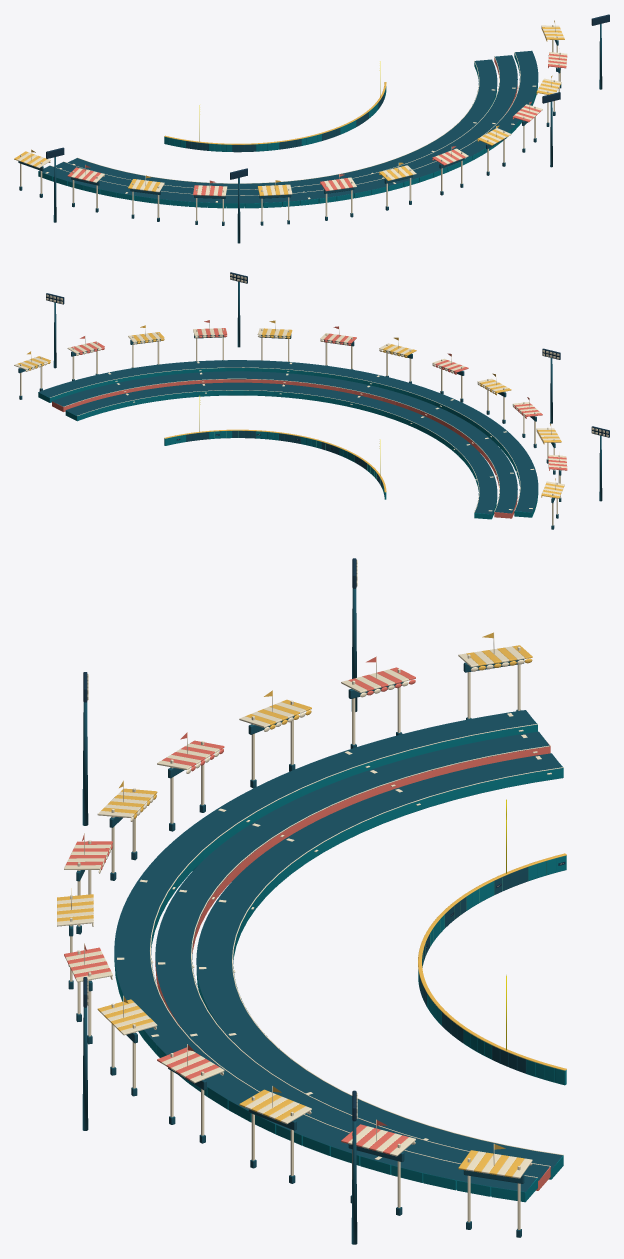
File: stadium.glb
The picture shows the model from 3 angles, top to bottom: view 1: azimuth 30°, elevation 25°; view 2: azimuth 150°, elevation 25°; view 3: azimuth 270°, elevation 25°; orthographic projection. The views are drawn at different scales.
Parts seen in each view (by area): view 1: stadium_teal_dark, stadium_cream, stadium_teal, stadium_gold, stadium_coral, stadium_navy; view 2: stadium_teal_dark, stadium_cream, stadium_teal, stadium_coral, stadium_gold, stadium_navy; view 3: stadium_teal_dark, stadium_cream, stadium_teal, stadium_coral, stadium_gold.
Part boxes in pixels (x1,y1,x2,y2): stadium_teal_dark: [18, 24, 602, 243]; stadium_cream: [17, 21, 567, 222]; stadium_teal: [38, 53, 538, 208]; stadium_gold: [14, 20, 564, 195]; stadium_coral: [67, 53, 567, 196]; stadium_navy: [46, 14, 609, 179]; stadium_teal_dark: [18, 281, 602, 529]; stadium_cream: [14, 273, 608, 525]; stadium_teal: [38, 368, 538, 519]; stadium_coral: [52, 320, 567, 518]; stadium_gold: [17, 320, 564, 498]; stadium_navy: [46, 272, 609, 495]; stadium_teal_dark: [68, 588, 562, 1244]; stadium_cream: [57, 560, 563, 1229]; stadium_teal: [114, 721, 566, 1202]; stadium_coral: [64, 657, 550, 1190]; stadium_gold: [57, 632, 566, 1177].
Bounding box in the file's own units: 317 × 38.9 × 124.
